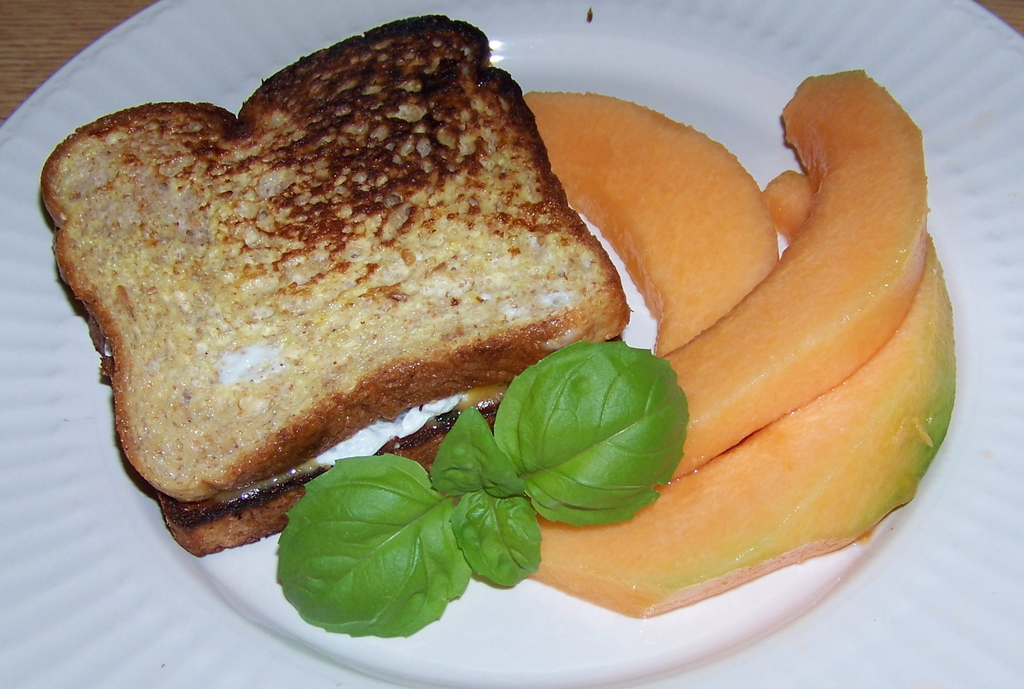sandwich: (41, 15, 627, 561)
